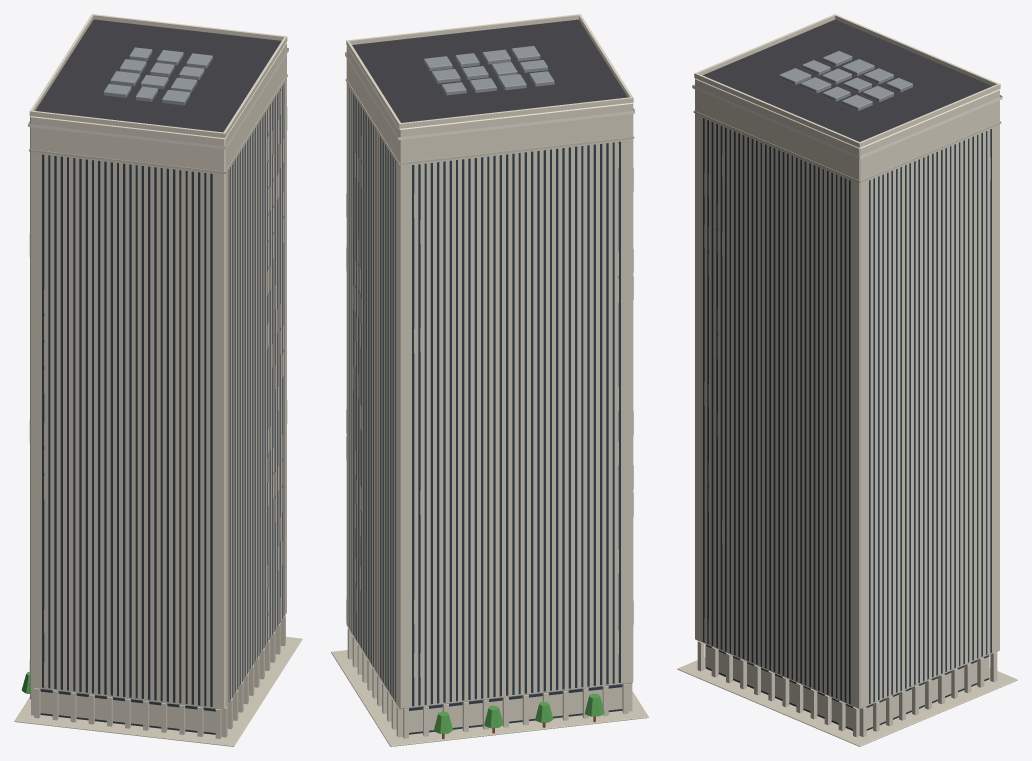
The model's file is 525-market-street.glb.
The picture shows the model from 3 angles, left to right: view 1: azimuth 30°, elevation 25°; view 2: azimuth 150°, elevation 25°; view 3: azimuth 270°, elevation 25°; orthographic projection. The views are drawn at different scales.
Parts seen in each view (by area): view 1: 525-market-street_body, 525-market-street_night_glow; view 2: 525-market-street_body, 525-market-street_night_glow; view 3: 525-market-street_body, 525-market-street_night_glow.
Boxes of the visible parts, x1,y1,x2,y2 form: 525-market-street_body: (14, 14, 302, 746); 525-market-street_night_glow: (28, 48, 288, 732); 525-market-street_body: (331, 14, 648, 746); 525-market-street_night_glow: (345, 52, 634, 732); 525-market-street_body: (677, 14, 1017, 746); 525-market-street_night_glow: (692, 84, 1002, 728).
Bounding box in the file's own units: 83.38 × 161 × 83.36.
